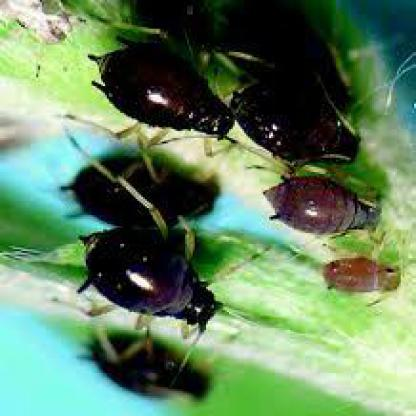uroleucon compositae: (90, 41, 234, 143), (262, 179, 384, 238)
